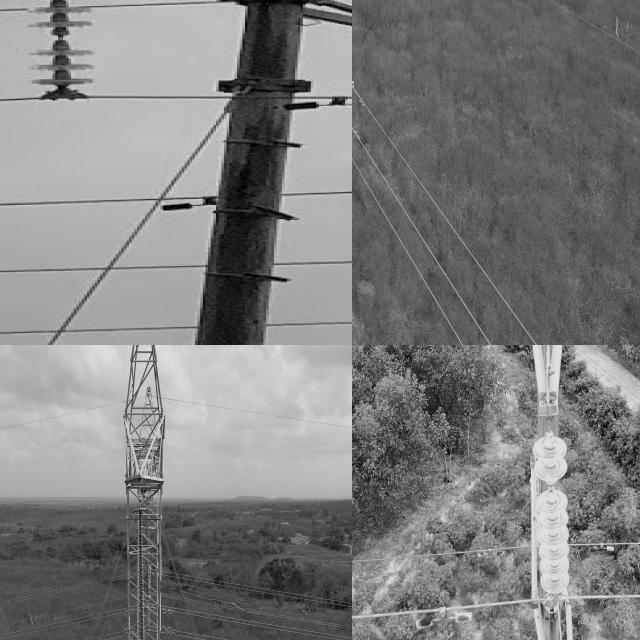杆塔: (17, 0, 352, 345), (117, 345, 171, 640)
正常电缆: (352, 592, 526, 623), (352, 538, 527, 568)
正常绝缘子: (530, 418, 575, 614), (30, 0, 107, 99), (131, 481, 158, 640)
绝缘子破损: (42, 30, 75, 46), (544, 481, 556, 494)
